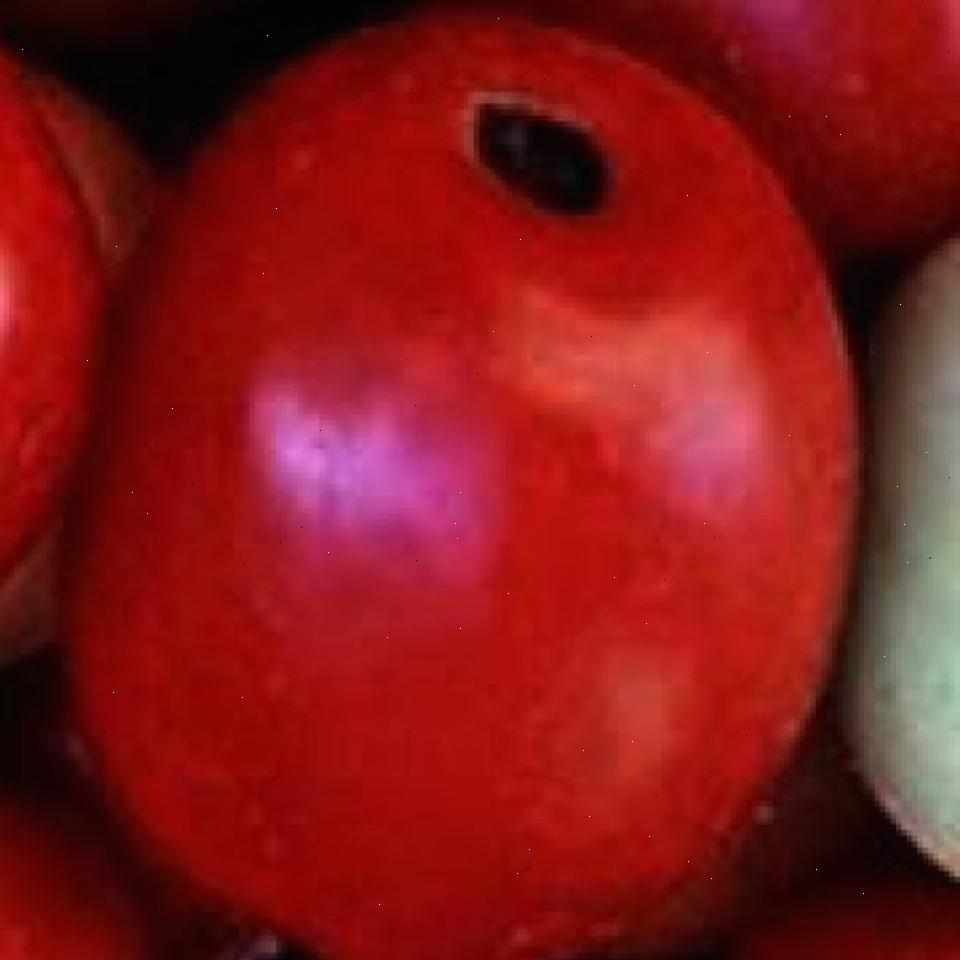Blossom_end_rot: (464, 100, 640, 242)
